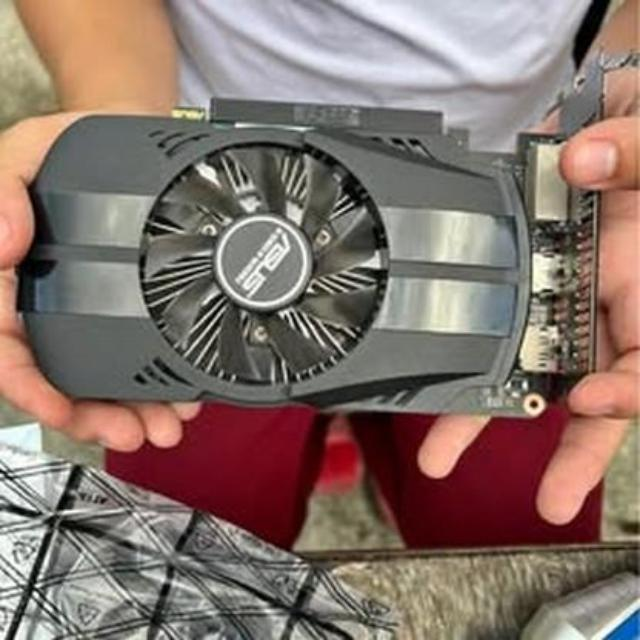GPU: (46, 89, 598, 417)
